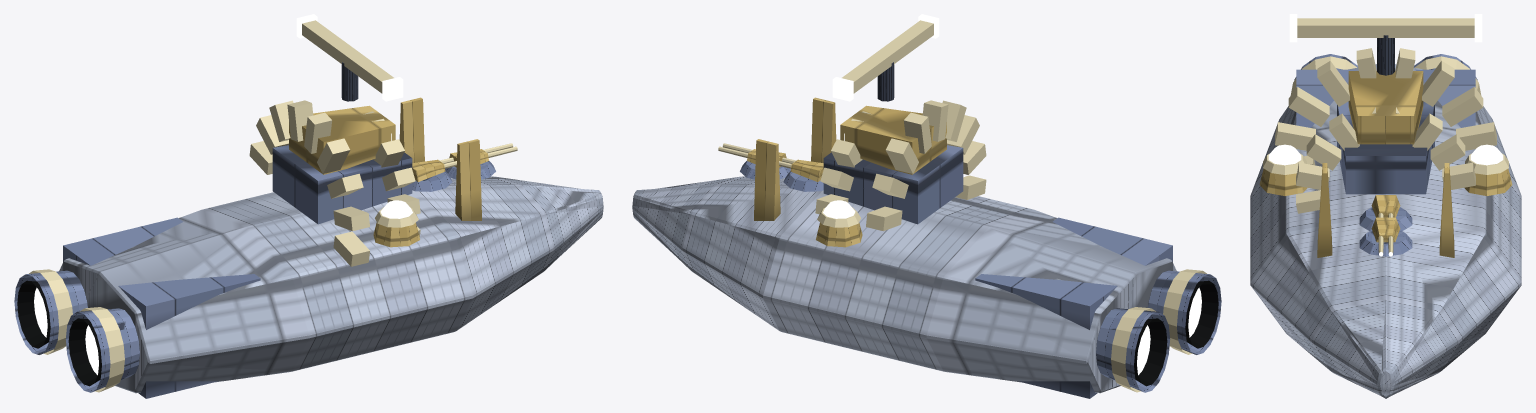
File: command_ship.glb
The picture shows the model from 3 angles, left to right: view 1: azimuth 30°, elevation 25°; view 2: azimuth 150°, elevation 25°; view 3: azimuth 270°, elevation 25°; orthographic projection. The views are drawn at different scales.
Visible parts, largest first — view 1: hull_body, engine_block, sensor_tower, weapon_turrets, shield_domes; view 2: hull_body, engine_block, sensor_tower, weapon_turrets, shield_domes; view 3: hull_body, sensor_tower, shield_domes, engine_block, weapon_turrets.
Boxes of the visible parts, x1,y1,x2,y2 form: hull_body: [59, 97, 603, 393]; engine_block: [14, 217, 260, 398]; sensor_tower: [272, 14, 420, 236]; weapon_turrets: [412, 143, 517, 191]; shield_domes: [373, 200, 419, 247]; hull_body: [632, 97, 1176, 393]; engine_block: [975, 217, 1221, 398]; sensor_tower: [815, 14, 963, 224]; weapon_turrets: [718, 143, 823, 191]; shield_domes: [816, 200, 862, 247]; hull_body: [1250, 48, 1521, 398]; sensor_tower: [1289, 14, 1482, 213]; shield_domes: [1259, 144, 1512, 195]; engine_block: [1290, 54, 1481, 127]; weapon_turrets: [1359, 195, 1412, 256].
Size of the model in its own units: 56 by 27.67 by 22.5.
1 material, 1 textured.
